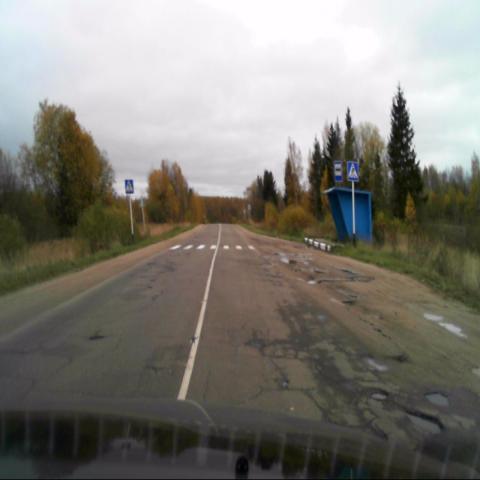5_16: (334, 159, 343, 182)
5_19_1: (346, 160, 359, 181), (125, 177, 134, 194)
